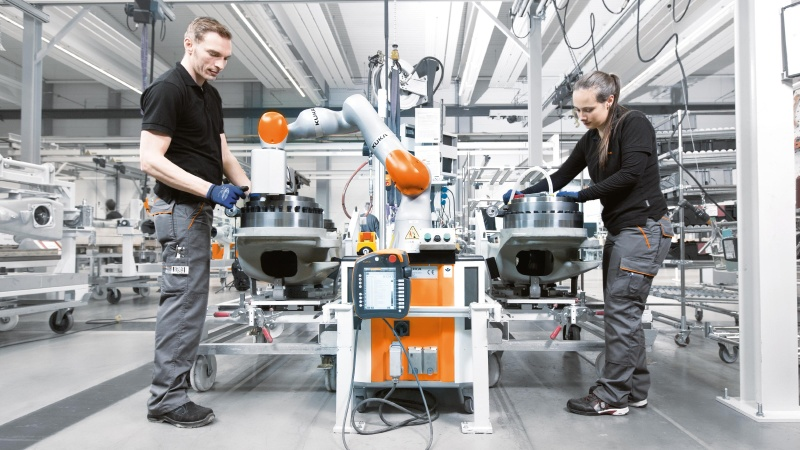person: (501, 69, 675, 417), (137, 16, 251, 428)
robot: (238, 93, 431, 250)
